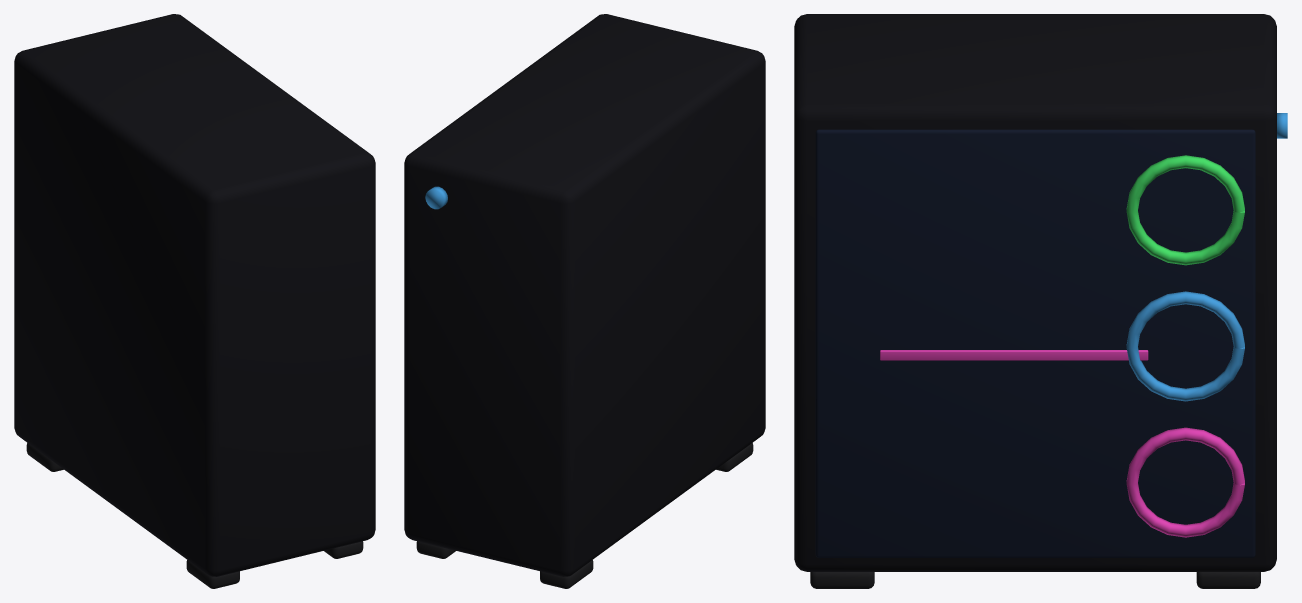
File: pc_tower.glb
The picture shows the model from 3 angles, left to right: view 1: azimuth 30°, elevation 25°; view 2: azimuth 150°, elevation 25°; view 3: azimuth 270°, elevation 25°; orthographic projection. The views are drawn at different scales.
Visible parts, largest first — view 1: pc_tower; view 2: pc_tower; view 3: pc_tower.
Boxes of the visible parts, left/top/right/bottom form: pc_tower: left=14, top=14, right=375, bottom=588; pc_tower: left=404, top=14, right=765, bottom=588; pc_tower: left=794, top=14, right=1287, bottom=588.
Bounding box in the file's own units: 0.234 × 0.5 × 0.46.
